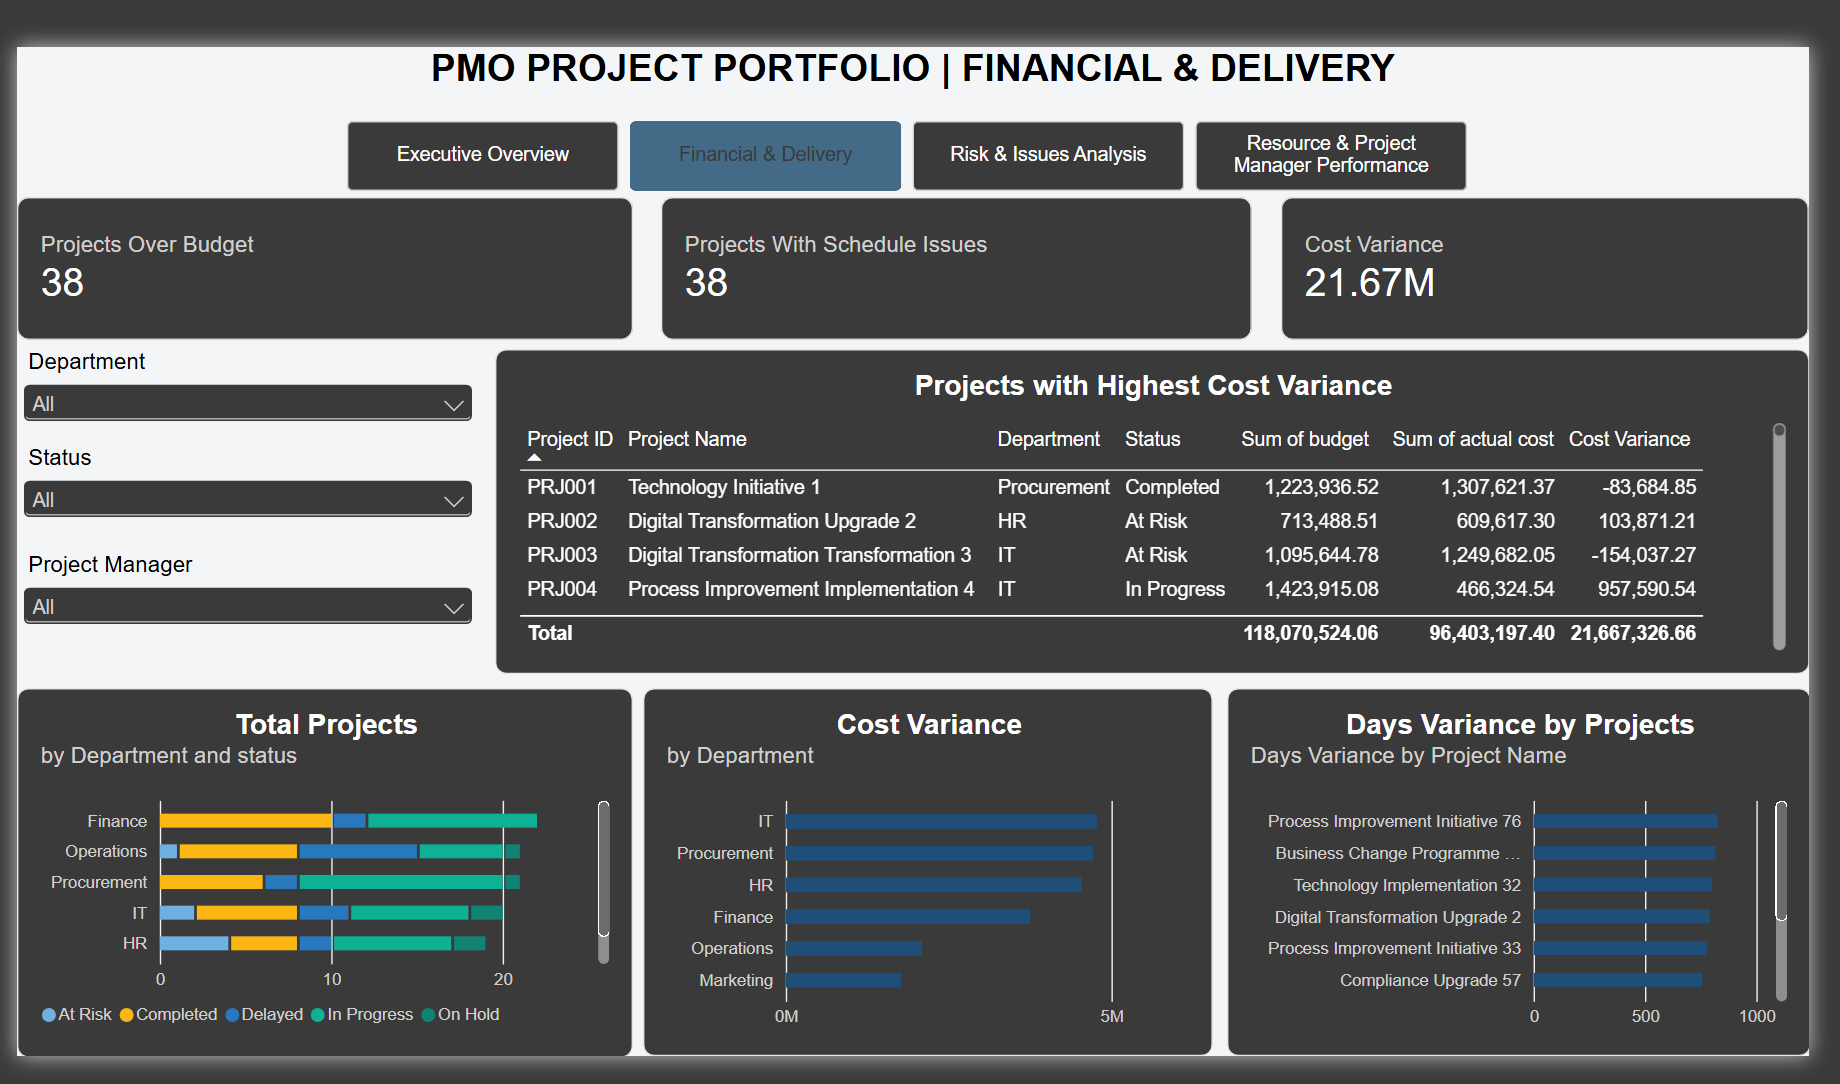

This screenshot's page, from the dashboard's own definition file:
{"tool":"powerbi","page":{"name":"Financial & Delivery","canvas":[1280,720],"ordinal":1},"visuals":[{"type":"textbox","box":[0,0,1280,52.9],"z":0},{"type":"cardVisual","fields":{"Data":["pmo_project_portfolio projects.Projects Over Budget"]},"box":[0,107.1,440,102.9],"z":1000},{"type":"cardVisual","fields":{"Data":["pmo_project_portfolio issues.Projects With Schedule Issues"]},"box":[460,107.1,422.9,102.9],"z":2000},{"type":"cardVisual","fields":{"Data":["pmo_project_portfolio projects.Cost Variance"]},"box":[902.9,107.1,377.1,102.9],"z":3000},{"type":"clusteredBarChart","fields":{"Category":["pmo_project_portfolio projects.department"],"Y":["pmo_project_portfolio projects.Cost Variance"]},"box":[447.1,457.1,407.1,262.9],"z":4000},{"type":"barChart","fields":{"Category":["pmo_project_portfolio projects.department"],"Y":["pmo_project_portfolio projects.Total Projects"],"Series":["pmo_project_portfolio projects.status"]},"box":[0,456.8,440.1,264.1],"z":5000},{"type":"tableEx","title":"Projects with Highest Cost Variance","fields":{"Values":["pmo_project_portfolio projects.project_id","pmo_project_portfolio projects.project_name","pmo_project_portfolio projects.department","pmo_project_portfolio projects.status","Sum(pmo_project_portfolio projects.budget)","Sum(pmo_project_portfolio projects.actual_cost)","pmo_project_portfolio projects.Cost Variance"]},"box":[341.2,215,938.8,231.2],"z":6000},{"type":"clusteredBarChart","title":"Days Variance by Projects","fields":{"Category":["pmo_project_portfolio projects.project_name"],"Y":["pmo_project_portfolio projects.Days Variance"]},"box":[864.3,457.1,417.1,262.9],"z":7000},{"type":"slicer","fields":{"Values":["pmo_project_portfolio projects.department"]},"box":[0,215.7,330,68.6],"z":8000},{"type":"slicer","fields":{"Values":["pmo_project_portfolio projects.status"]},"box":[0,284.3,330,75.7],"z":9000},{"type":"slicer","fields":{"Values":["pmo_project_portfolio project_managers.manager_name"]},"box":[0,360,330,62.9],"z":10000},{"type":"pageNavigator","box":[235.7,52.9,800,50],"z":11000}]}

Visuals, with their boxes in screenshot pixels (x1, y1, x2, y2):
textbox: select_region(5, 38, 1819, 113)
cardVisual - pmo_project_portfolio projects.Projects Over Budget: select_region(5, 190, 629, 336)
cardVisual - pmo_project_portfolio issues.Projects With Schedule Issues: select_region(657, 190, 1256, 336)
cardVisual - pmo_project_portfolio projects.Cost Variance: select_region(1285, 190, 1819, 336)
clusteredBarChart - pmo_project_portfolio projects.department x pmo_project_portfolio projects.Cost Variance: select_region(639, 686, 1216, 1059)
barChart - pmo_project_portfolio projects.department x pmo_project_portfolio projects.Total Projects: select_region(5, 686, 629, 1060)
"Projects with Highest Cost Variance" tableEx: select_region(488, 343, 1819, 671)
"Days Variance by Projects" clusteredBarChart: select_region(1230, 686, 1821, 1059)
slicer - pmo_project_portfolio projects.department: select_region(5, 344, 473, 441)
slicer - pmo_project_portfolio projects.status: select_region(5, 441, 473, 549)
slicer - pmo_project_portfolio project_managers.manager_name: select_region(5, 549, 473, 638)
pageNavigator: select_region(339, 113, 1473, 184)
